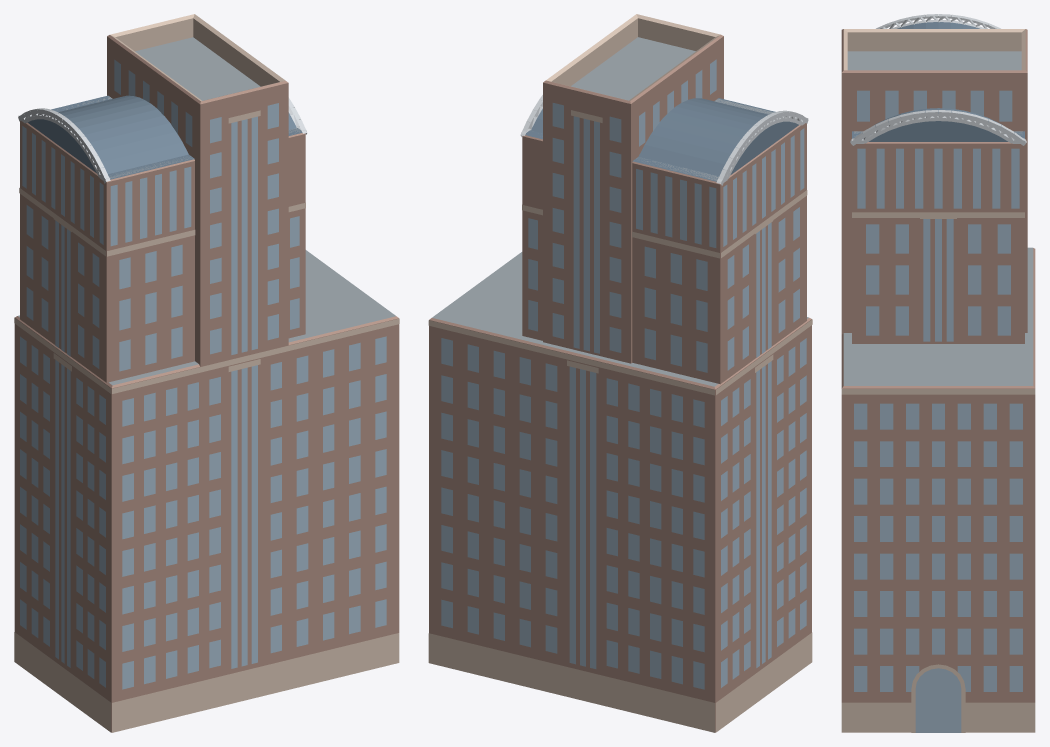
File: pit-eqt-plaza.glb
3 renders of one model, left to right at view 1: azimuth 30°, elevation 25°; view 2: azimuth 150°, elevation 25°; view 3: azimuth 270°, elevation 25°, orthographic.
Visible parts, largest first — view 1: EQT Plaza; view 2: EQT Plaza; view 3: EQT Plaza.
Part boxes in pixels (<box>): EQT Plaza: <box>14,14,399,732</box>; EQT Plaza: <box>428,14,812,732</box>; EQT Plaza: <box>841,14,1035,732</box>.
Size of the model in its own units: 65.45 by 132 by 38.24.
